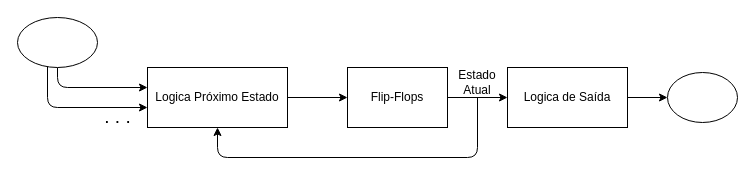
Some shapes in this 755 by 183 pixel diagram are drawn without their labels. Each missing label, with the centre of its shape:
"Entradas" belongs at pixel 57 42.
"Saídas" belongs at pixel 702 97.
